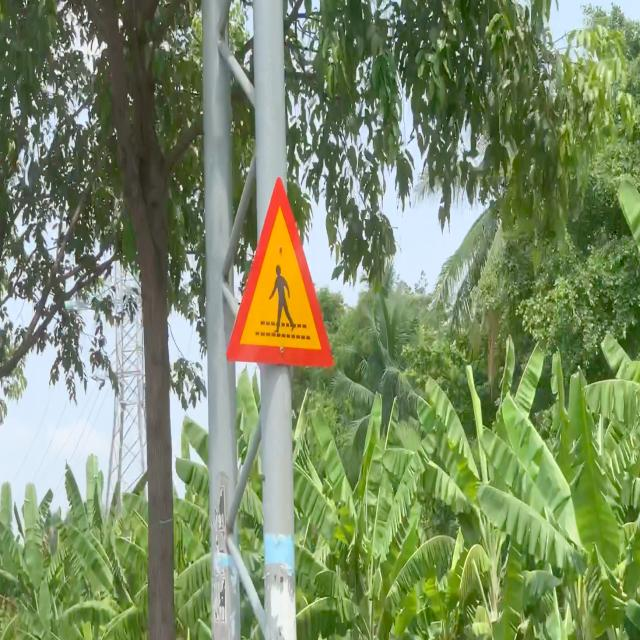Nguoi di bo cat ngang: (225, 174, 337, 370)
